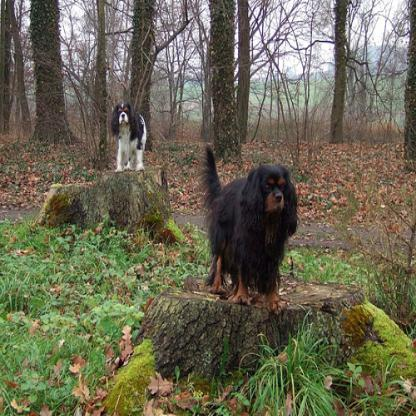dog: (198, 141, 300, 312), (109, 101, 149, 173)
